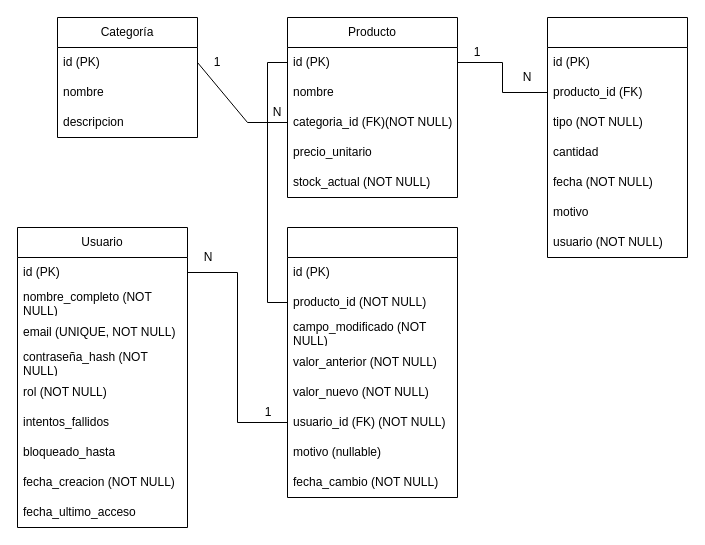
This 705x545 diagram has some shape labels left out. The shapes that lost their labels are listed below. From the top down, each one's box as (x1, y1, x2, y2) in pixels, then its label:
(546, 16, 688, 258): Movimiento
(286, 226, 458, 498): Auditoria
